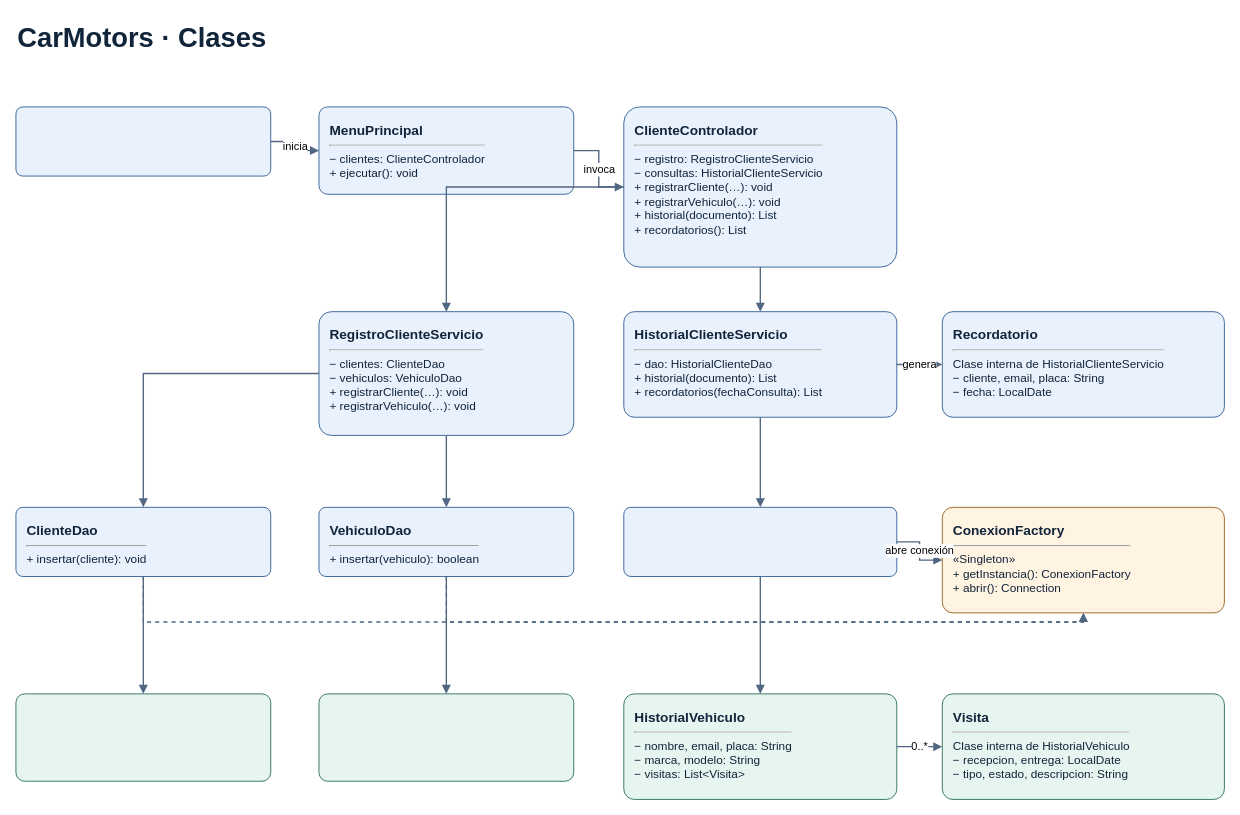
The diagram is 1240 pixels wide and 815 high, and some of its shapes have lost their labels. The centre of each missing label's shape, as x and y in pixels:
Cliente − nombre, documento: String − telefono, email: String: the point at 143,737
HistorialClienteDao + buscar(documento): List: the point at 760,541
Main + main(args): void: the point at 143,141
Vehiculo − documentoCliente, placa: String − marca, modelo: String: the point at 446,737
